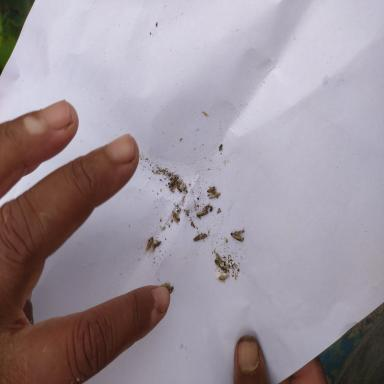pbw: (230, 230, 243, 241), (145, 236, 153, 252), (171, 210, 180, 224), (194, 232, 207, 241), (168, 174, 177, 187), (218, 272, 229, 282), (196, 210, 207, 218), (208, 192, 220, 199), (207, 186, 216, 194)
